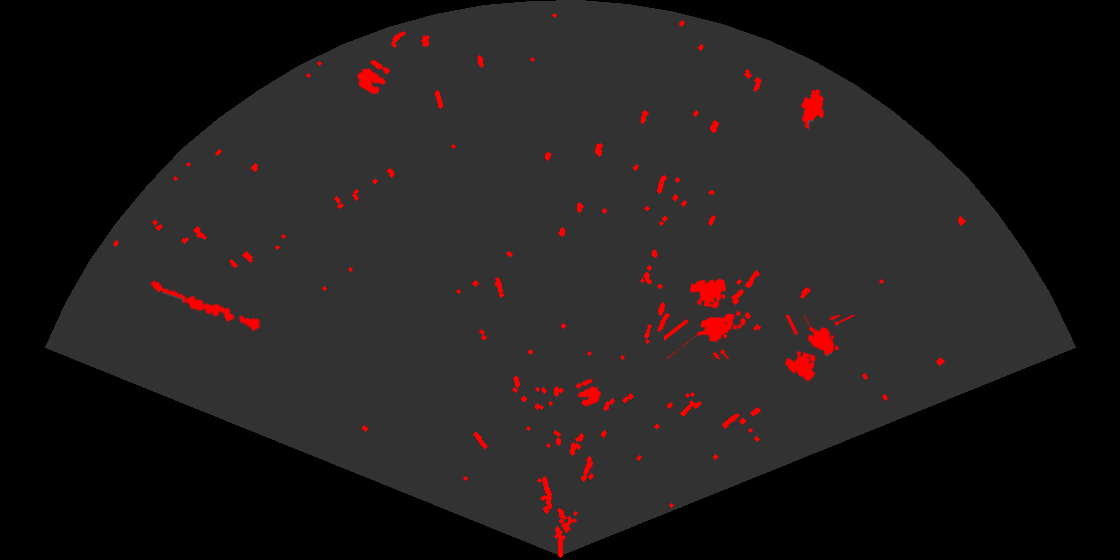AUV: (800, 87, 825, 131)
ball: (356, 58, 392, 96), (574, 377, 603, 408)
cage: (664, 277, 742, 359), (783, 315, 857, 383)
chain: (149, 279, 263, 333)
